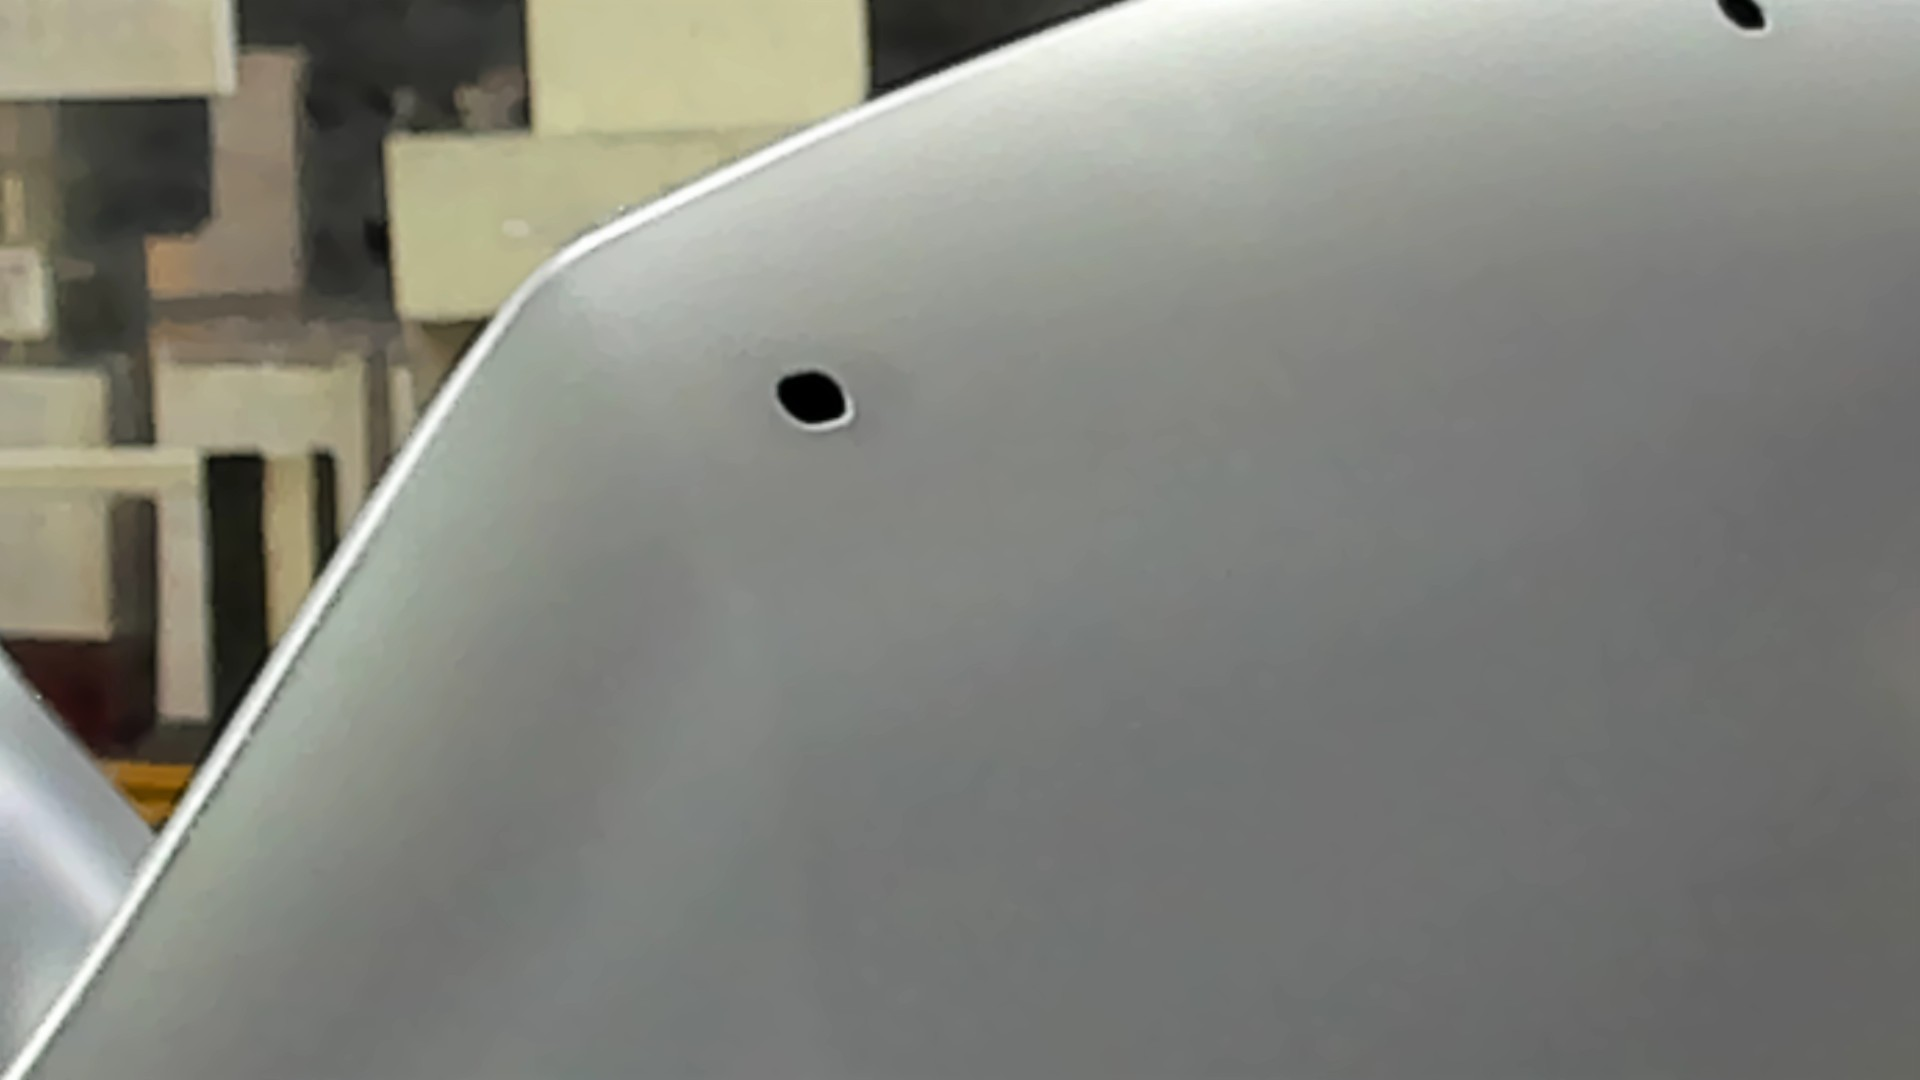amorfo: (770, 367, 856, 433), (1713, 1, 1774, 36)
capo: (998, 87, 1920, 1080)
